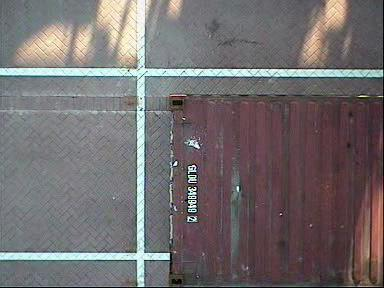groundmarker_2: (164, 138, 233, 221)
